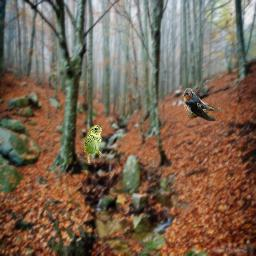Sparrow: (84, 125, 102, 165)
Swallow: (183, 88, 223, 121)
